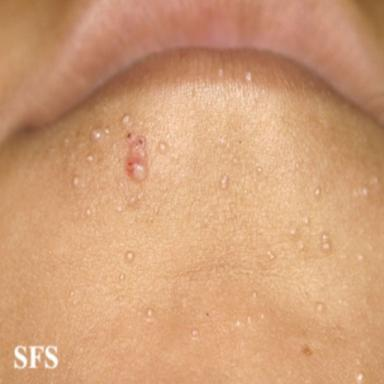Molluscum-Contagiosum: (126, 132, 148, 181), (127, 193, 143, 205), (321, 233, 331, 252), (353, 187, 369, 198), (91, 129, 103, 141), (312, 187, 323, 198), (125, 251, 134, 262), (122, 114, 131, 124), (316, 303, 324, 313), (221, 176, 227, 189), (267, 250, 275, 259), (297, 241, 304, 250), (245, 72, 252, 81), (159, 143, 166, 152), (147, 308, 153, 318), (73, 177, 79, 186), (357, 373, 363, 382), (86, 155, 93, 162), (85, 208, 91, 216), (119, 273, 125, 280), (192, 330, 198, 337), (235, 320, 241, 327), (290, 228, 296, 235), (357, 254, 363, 261), (221, 137, 226, 145), (257, 167, 263, 173), (104, 128, 109, 135), (304, 217, 309, 224), (218, 69, 223, 76), (117, 206, 122, 212), (252, 292, 257, 298), (233, 157, 238, 163), (247, 316, 251, 323), (70, 291, 74, 296), (260, 314, 264, 319)
